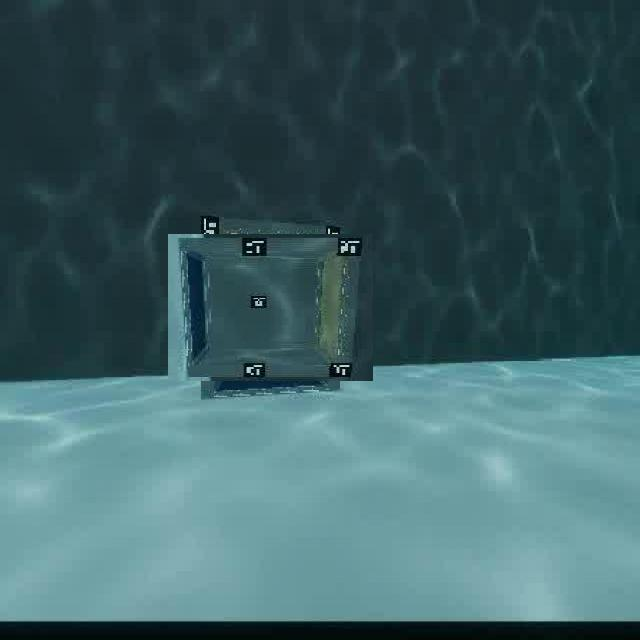Docking Station: (182, 220, 358, 396)
